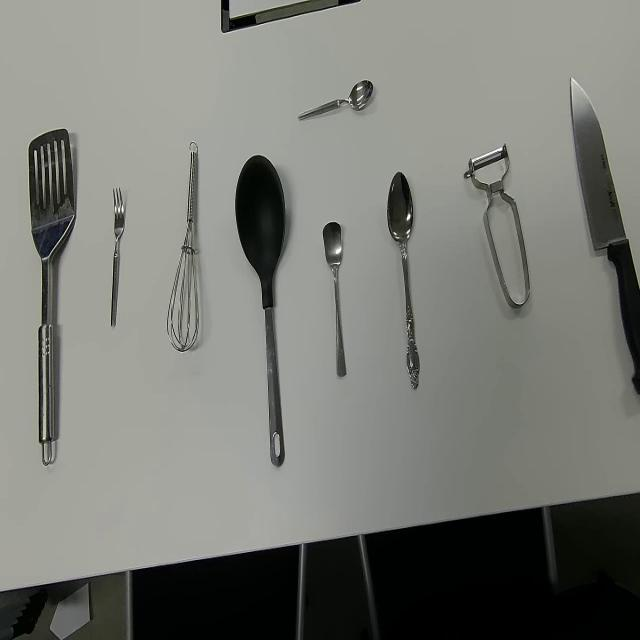Desert-Spoon: (386, 170, 420, 391)
Dinner-Fork: (110, 187, 125, 330)
Kitchen-Knife: (569, 75, 639, 395)
Peeler: (463, 141, 531, 308)
Serving-Spoon: (27, 127, 76, 468), (234, 152, 286, 468)
Tea-Spoon: (322, 220, 348, 379), (298, 79, 374, 123)
Whisk: (166, 141, 200, 354)
